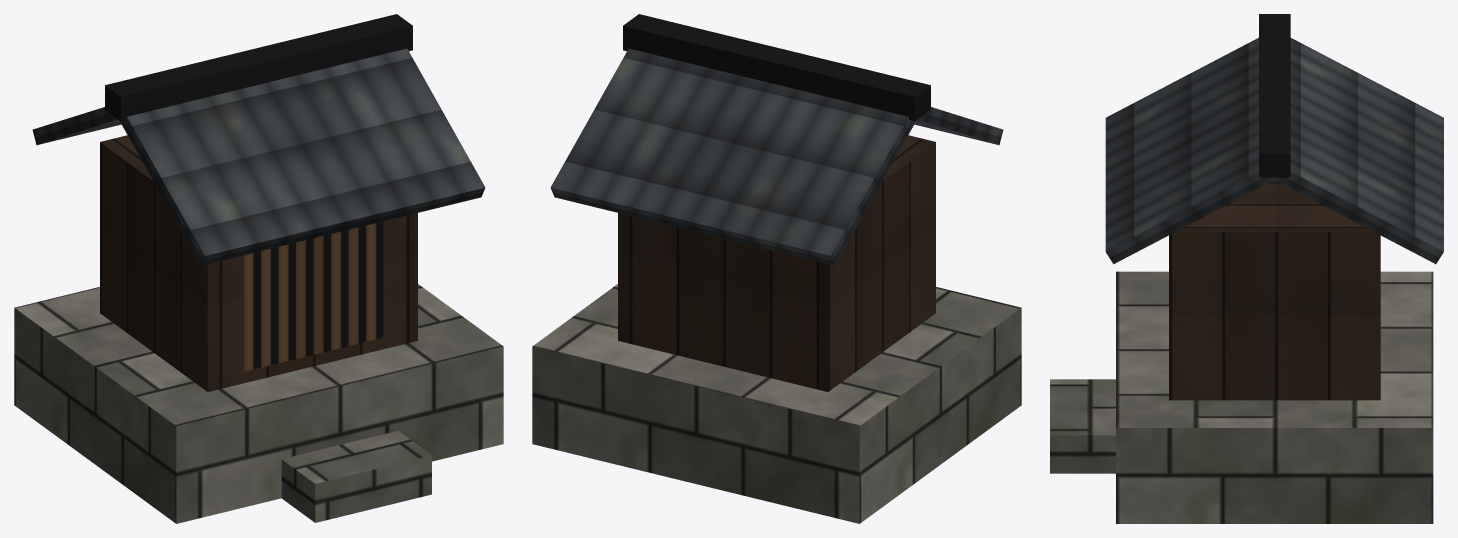
File: hokora.glb
3 renders of one model, left to right at view 1: azimuth 30°, elevation 25°; view 2: azimuth 150°, elevation 25°; view 3: azimuth 270°, elevation 25°, orthographic. The views are drawn at different scales.
Parts seen in each view (by area): view 1: hokora; view 2: hokora; view 3: hokora.
Part boxes in pixels (x1,y1,x2,y2): hokora: (14,14,503,523); hokora: (532,14,1021,523); hokora: (1050,14,1443,523).
Size of the model in its own units: 1.4 by 1.51 by 1.49.
5 materials, 5 textured.
